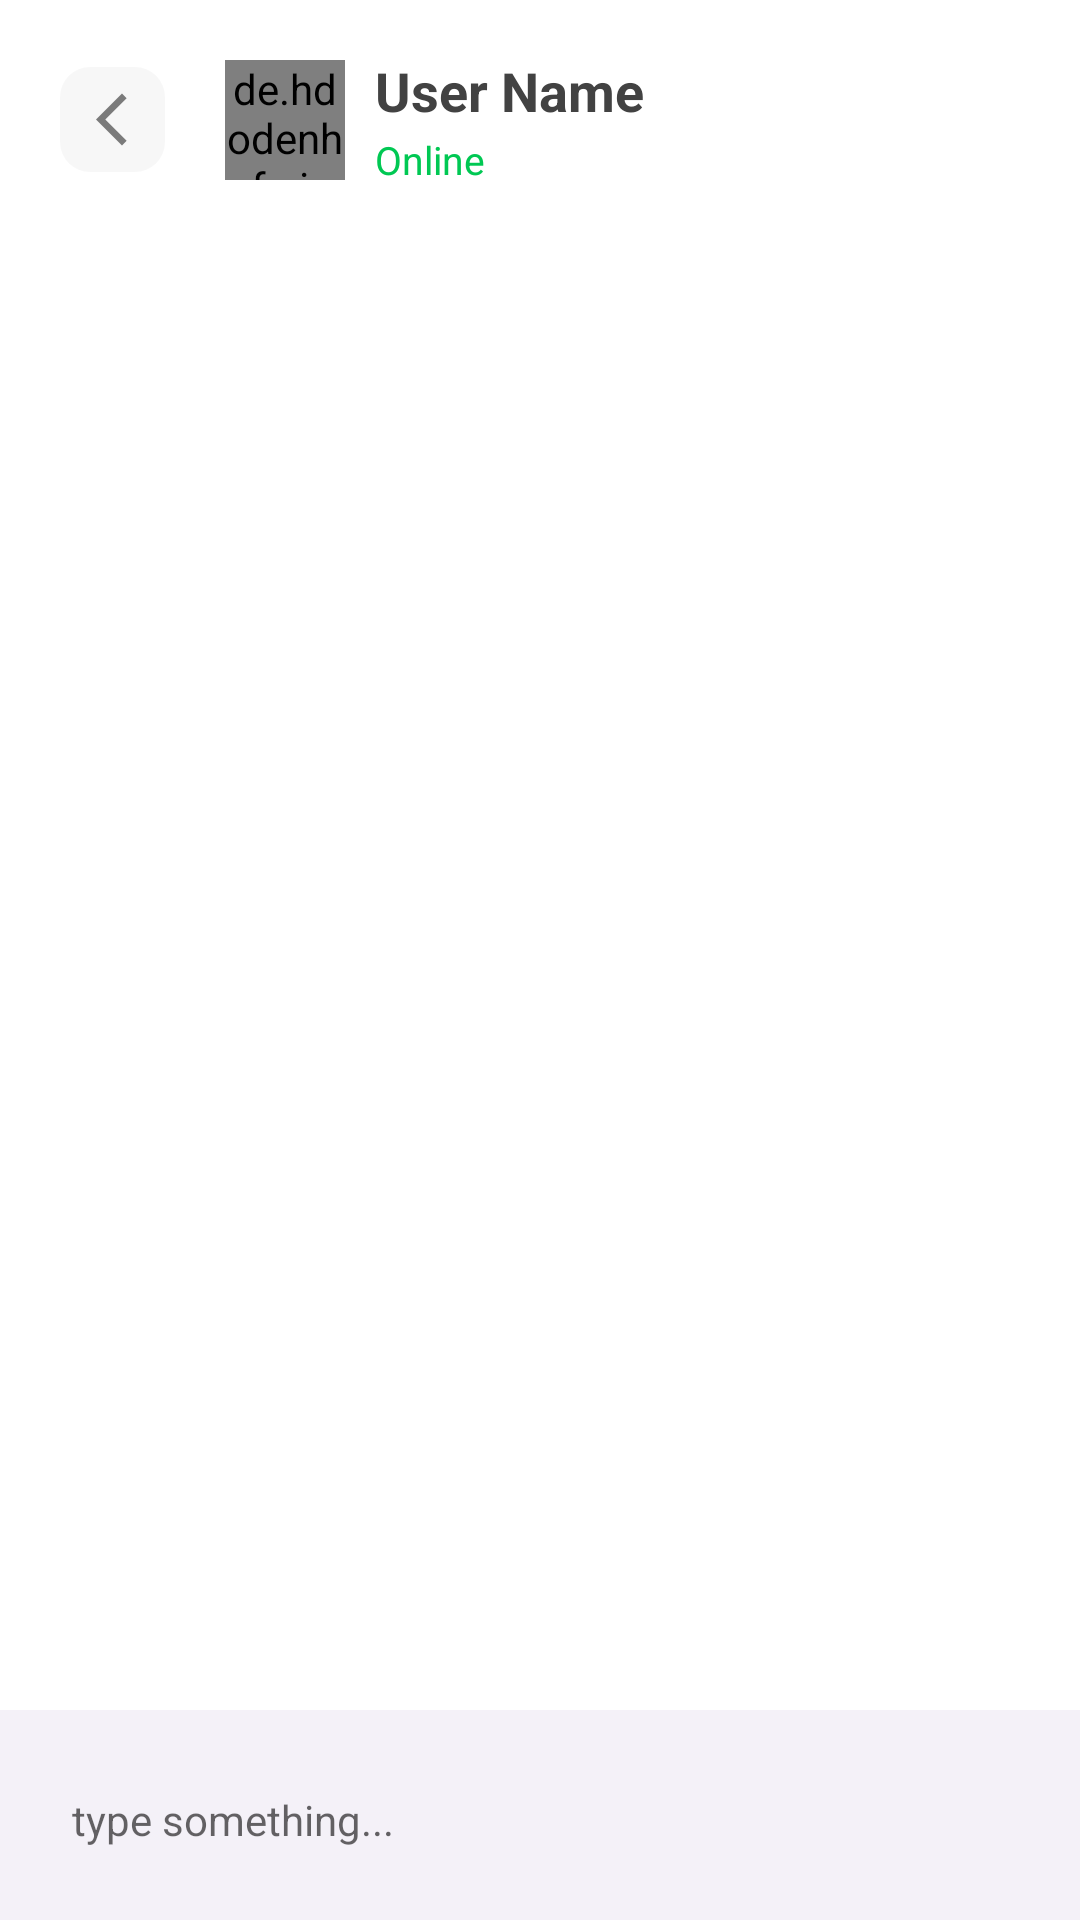

Point at icon controls on the screen. Image size 1080x1920, points as (x=x, y=y).
back: (x=111, y=120)
